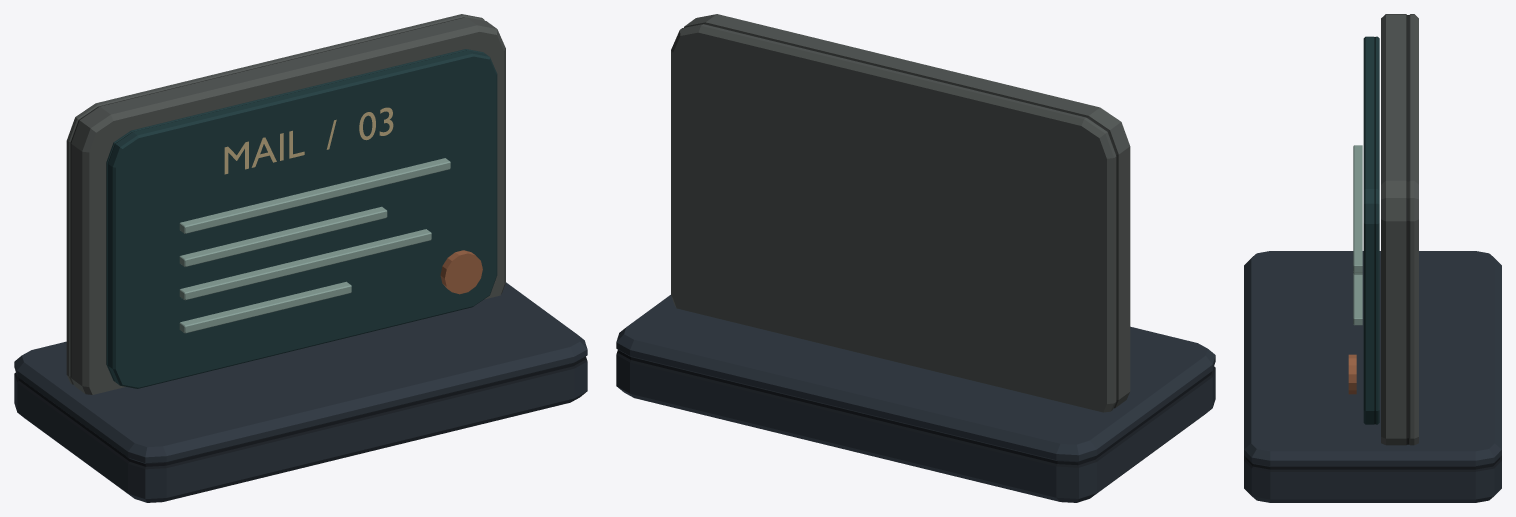
The model's file is PZ-05_mail_tablet.glb.
3 views of the same model, side by side, from view 1: azimuth 30°, elevation 25°; view 2: azimuth 150°, elevation 25°; view 3: azimuth 270°, elevation 25° (orthographic). The views are drawn at different scales.
Visible parts, largest first — view 1: PZ-05_mail_tablet; view 2: PZ-05_mail_tablet; view 3: PZ-05_mail_tablet.
Boxes of the visible parts, <box> form: PZ-05_mail_tablet: <box>14,14,587,502</box>; PZ-05_mail_tablet: <box>616,14,1215,502</box>; PZ-05_mail_tablet: <box>1244,14,1501,502</box>.
Size of the model in its own units: 0.36 by 0.248 by 0.19.
